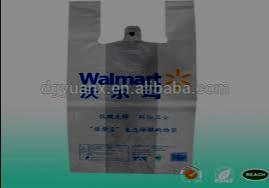Plastic: (68, 0, 199, 184)
